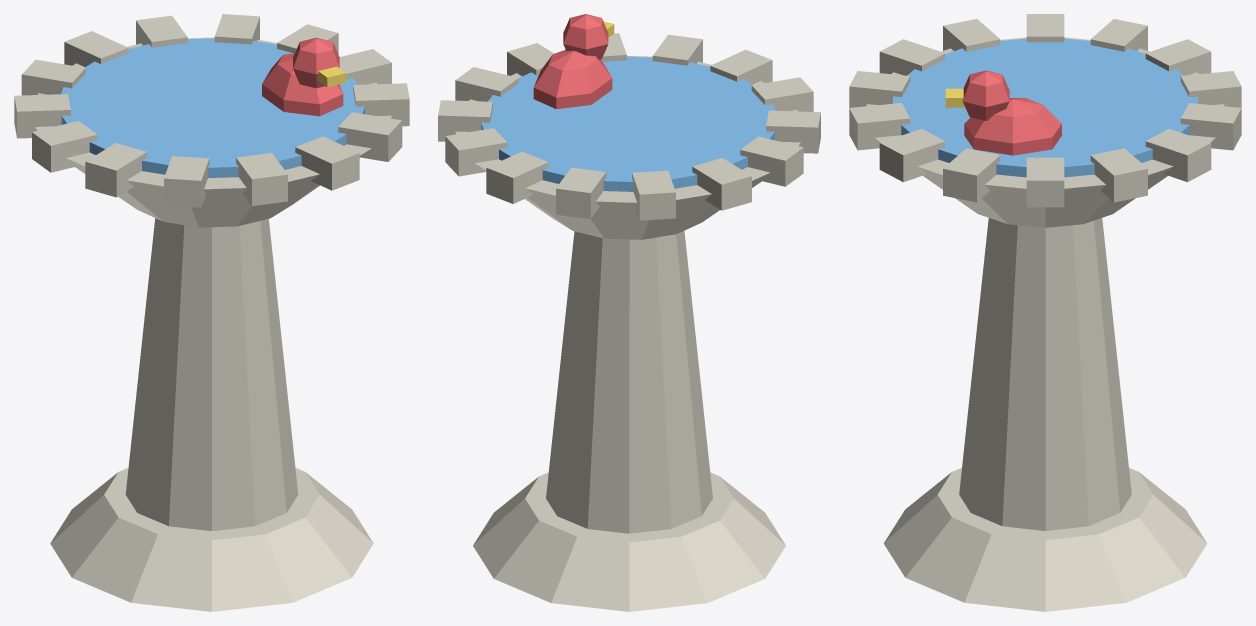
The model's file is lawn-mowing-simulator-kit-bird-bath-295b62d4__27404.glb.
3 views of the same model, side by side, from view 1: azimuth 30°, elevation 25°; view 2: azimuth 150°, elevation 25°; view 3: azimuth 270°, elevation 25° (orthographic). The views are drawn at different scales.
Parts seen in each view (by area): view 1: bird-bath; view 2: bird-bath; view 3: bird-bath.
Part boxes in pixels (x1=…): bird-bath: x1=14, y1=14, x2=409, y2=611; bird-bath: x1=438, y1=14, x2=820, y2=611; bird-bath: x1=849, y1=14, x2=1241, y2=611.
Bounding box in the file's own units: 0.73 × 1.04 × 0.7273.
